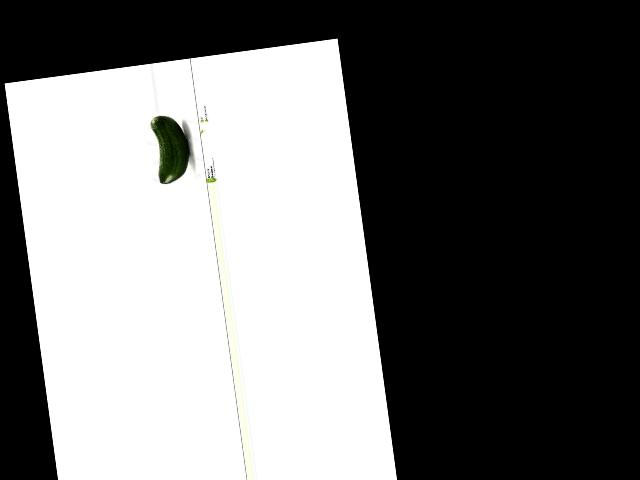cucumber: (150, 112, 193, 184)
